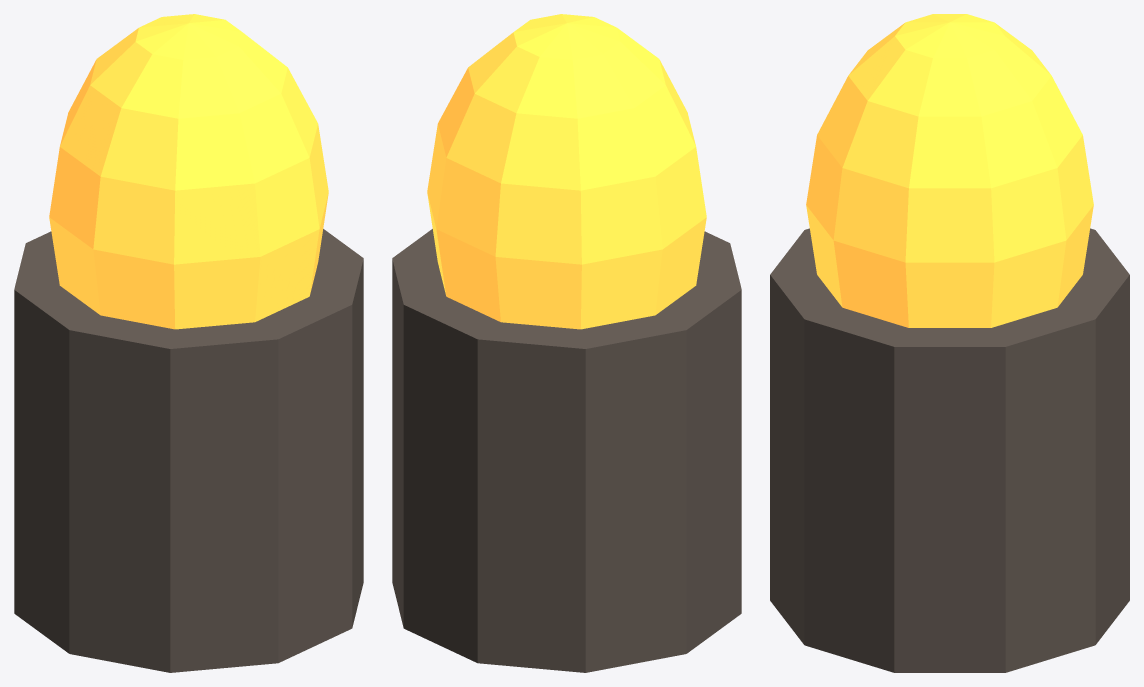
Rendered from brazier.glb.
3 renders of one model, left to right at view 1: azimuth 30°, elevation 25°; view 2: azimuth 150°, elevation 25°; view 3: azimuth 270°, elevation 25°, orthographic.
Visible parts, largest first — view 1: brazier; view 2: brazier; view 3: brazier.
Part boxes in pixels (x1,y1,x2,y2): brazier: (14,14,363,672); brazier: (392,14,741,672); brazier: (770,14,1129,672).
Bounding box in the file's own units: 0.6657 × 1.24 × 0.7.
